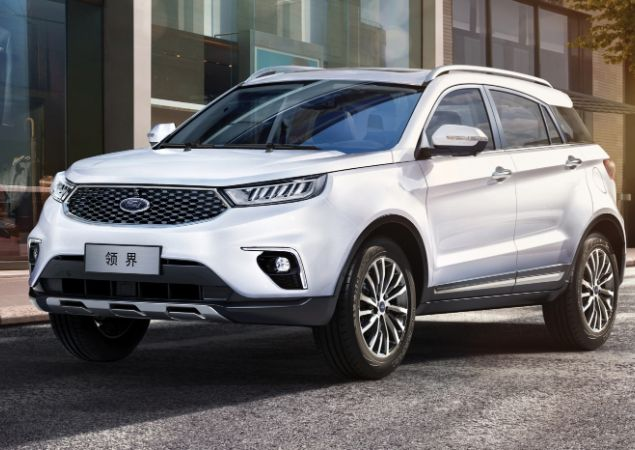Carro: (20, 61, 625, 379)
